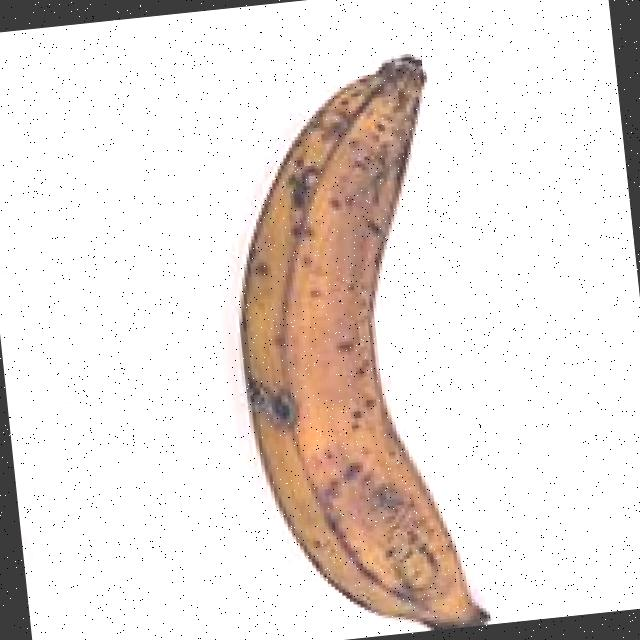Overripe: (160, 28, 577, 640)
